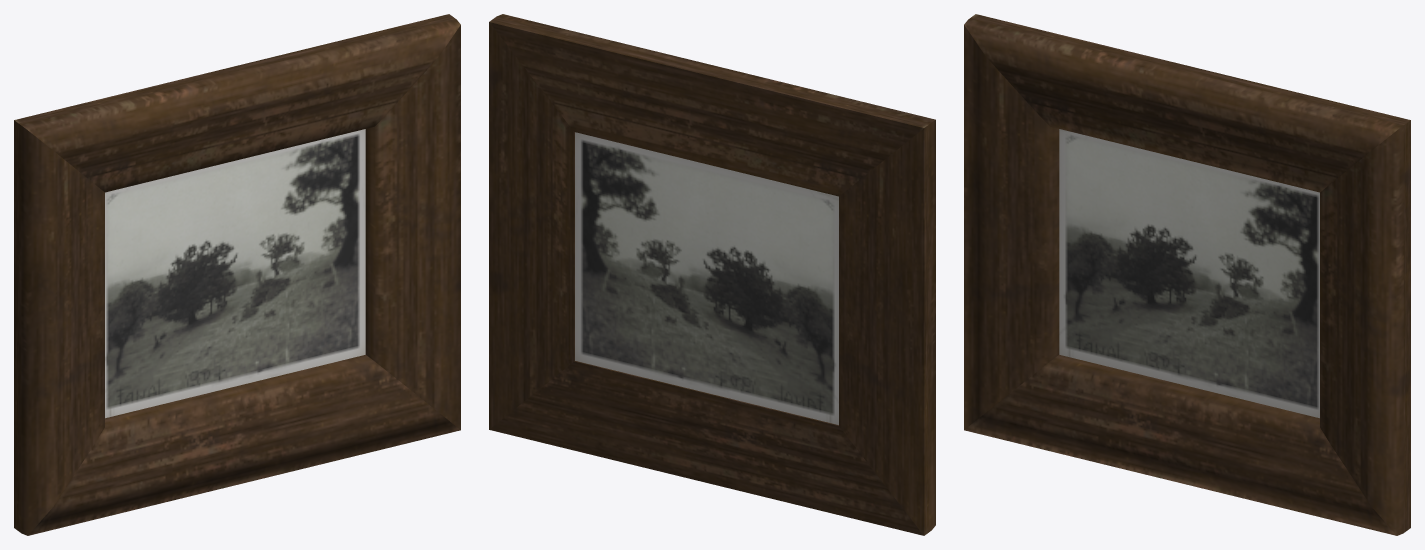
Rendered from Picture_7_Small_Framed.FBX.
The picture shows the model from 3 angles, left to right: view 1: azimuth 30°, elevation 25°; view 2: azimuth 150°, elevation 25°; view 3: azimuth 330°, elevation 25°; orthographic projection.
Visible parts, largest first — view 1: Picture_7_Small_Framed; view 2: Picture_7_Small_Framed; view 3: Picture_7_Small_Framed.
Boxes of the visible parts, x1=… form: Picture_7_Small_Framed: x1=14, y1=14, x2=460, y2=535; Picture_7_Small_Framed: x1=489, y1=14, x2=935, y2=535; Picture_7_Small_Framed: x1=964, y1=14, x2=1410, y2=535.
Size of the model in its own units: 54.56 by 48.86 by 3.18.
